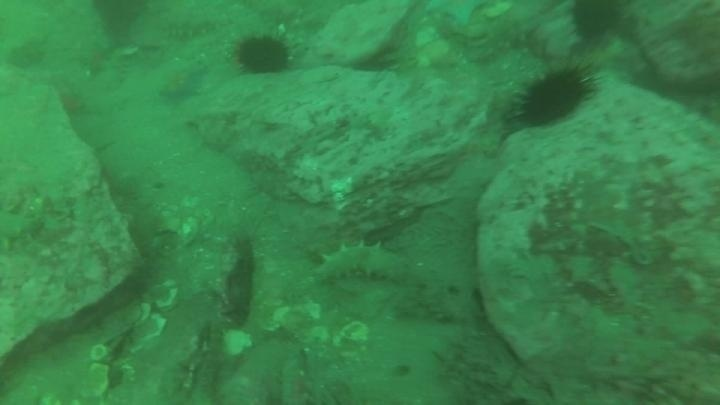echinus: (513, 64, 596, 129), (232, 31, 294, 77), (567, 1, 626, 44), (89, 1, 150, 41)
holothurian: (312, 239, 411, 288), (156, 13, 222, 43)
starfish: (156, 61, 208, 106), (422, 1, 495, 30)
